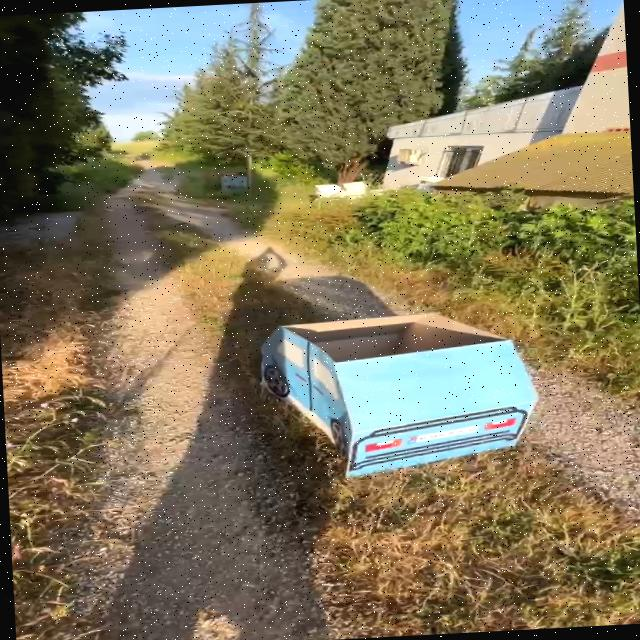blue_car: (210, 273, 575, 506)
